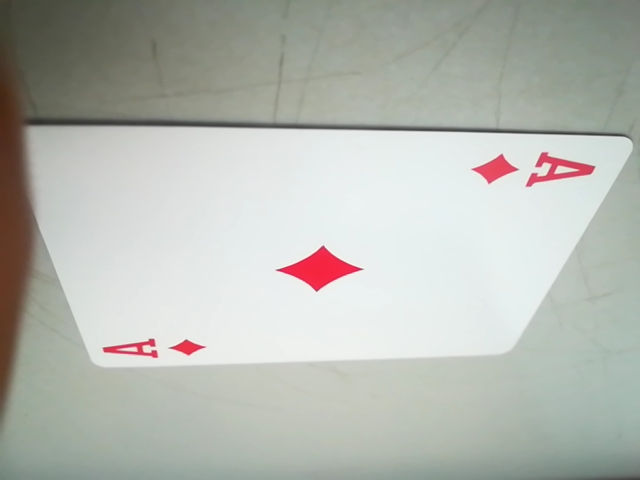fk a: (467, 147, 602, 195), (95, 332, 212, 364)
